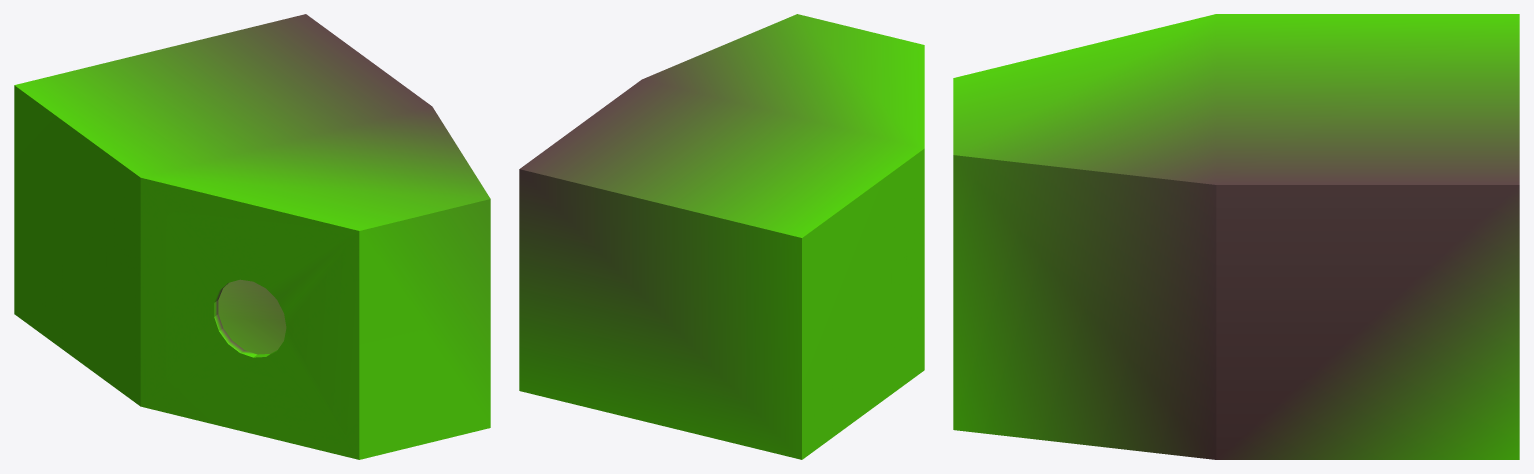
Rendered from bin_green.dae.
3 views of the same model, side by side, from view 1: azimuth 30°, elevation 25°; view 2: azimuth 150°, elevation 25°; view 3: azimuth 270°, elevation 25° (orthographic). The views are drawn at different scales.
Parts seen in each view (by area): view 1: node; view 2: node; view 3: node.
Boxes of the visible parts, x1,y1,x2,y2 form: node: (14,14,490,459); node: (519,14,924,459); node: (953,14,1519,459).
Size of the model in its own units: 0.4 by 0.3 by 0.5598.
1 material, 1 textured.
